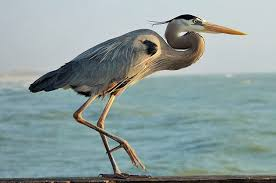Walking: (18, 5, 251, 182)
